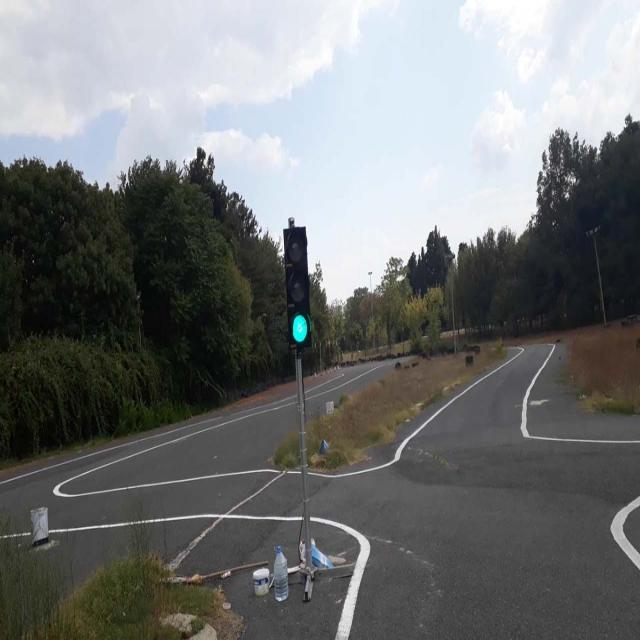yesil: (283, 228, 311, 342)
